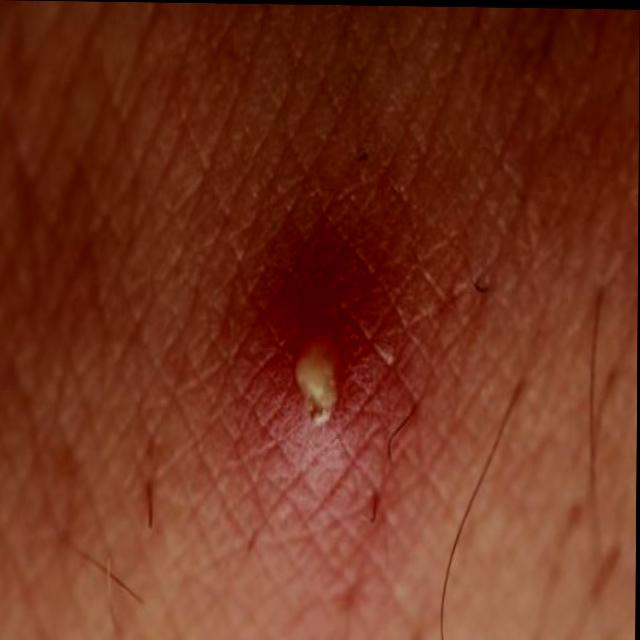blackheads: (282, 304, 365, 451)
